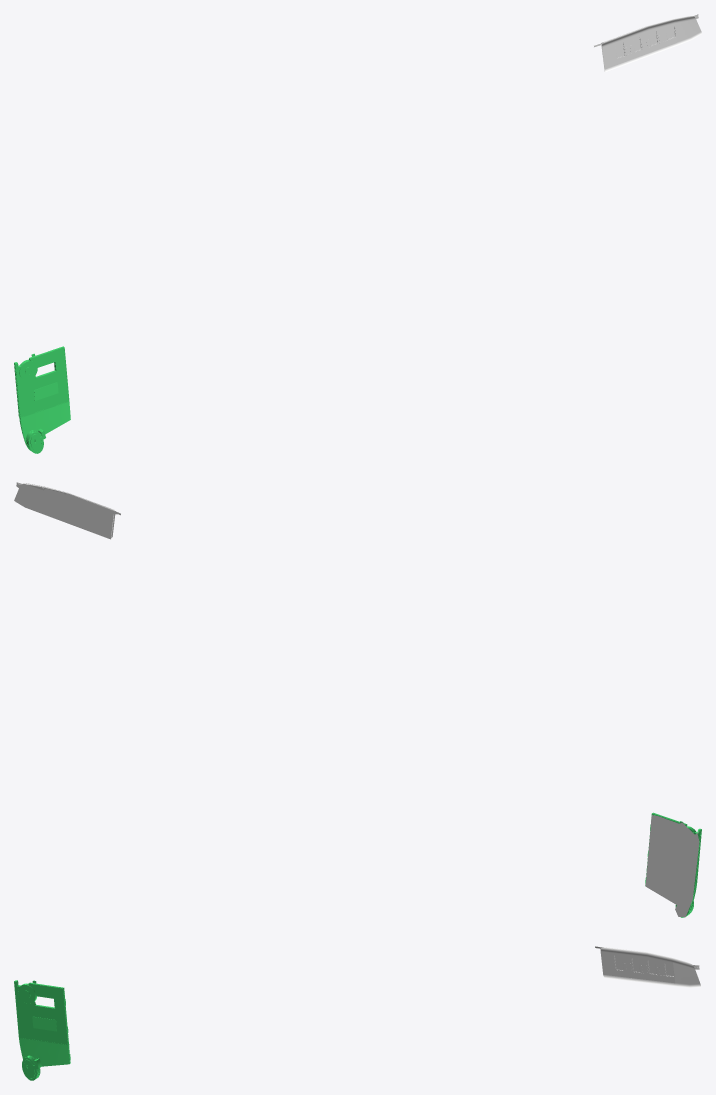
3 views of the same model, one above another, from view 1: azimuth 30°, elevation 25°; view 2: azimuth 150°, elevation 25°; view 3: azimuth 330°, elevation 25° (orthographic).
Size of the model in its own units: 5736 by 2204 by 74.35.
